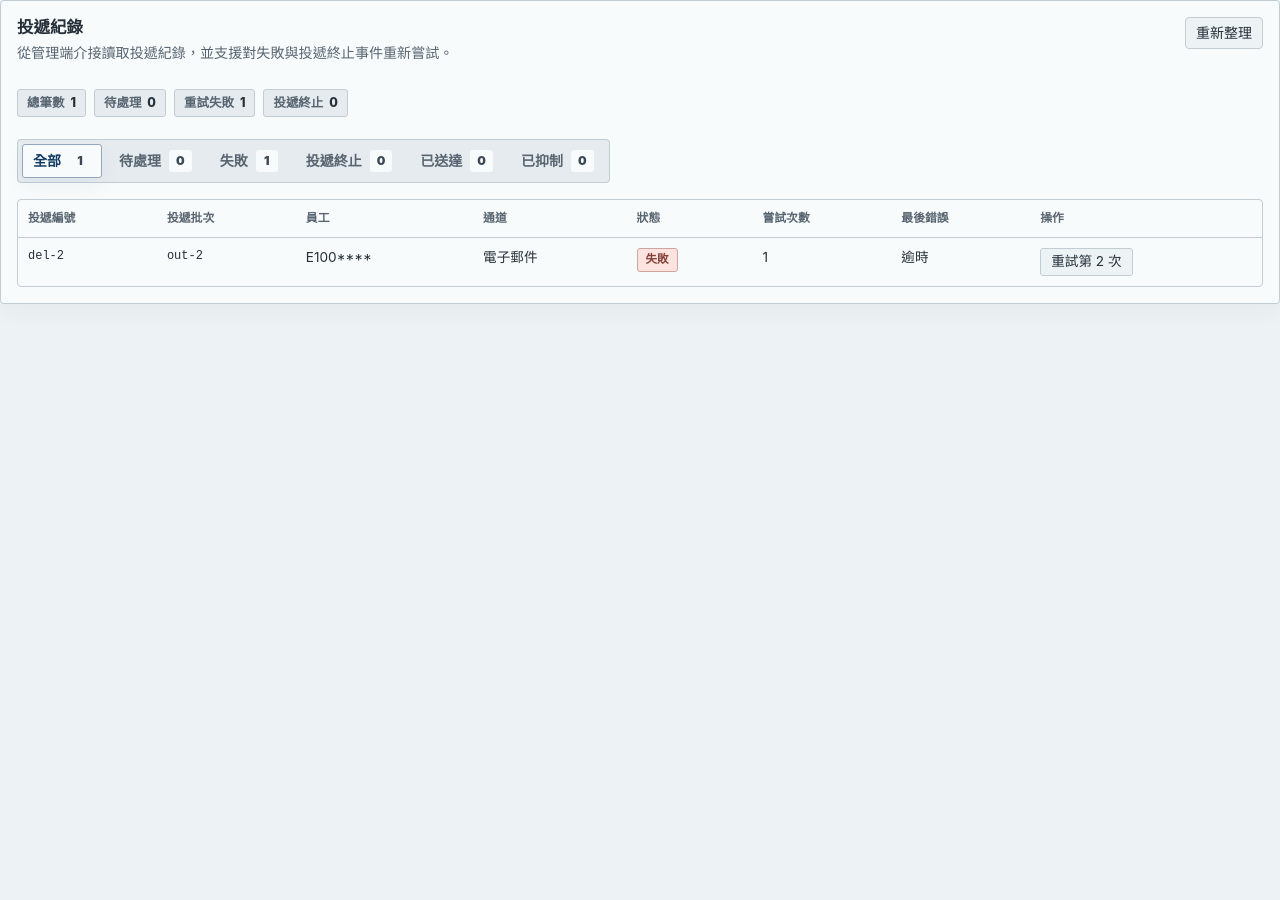
Test: NotificationDeliveryPage › retries a failed delivery and refreshes the row
Click the button "重試第 2 次": (1086, 262) top-left (1040, 248), bottom-right (1133, 276)
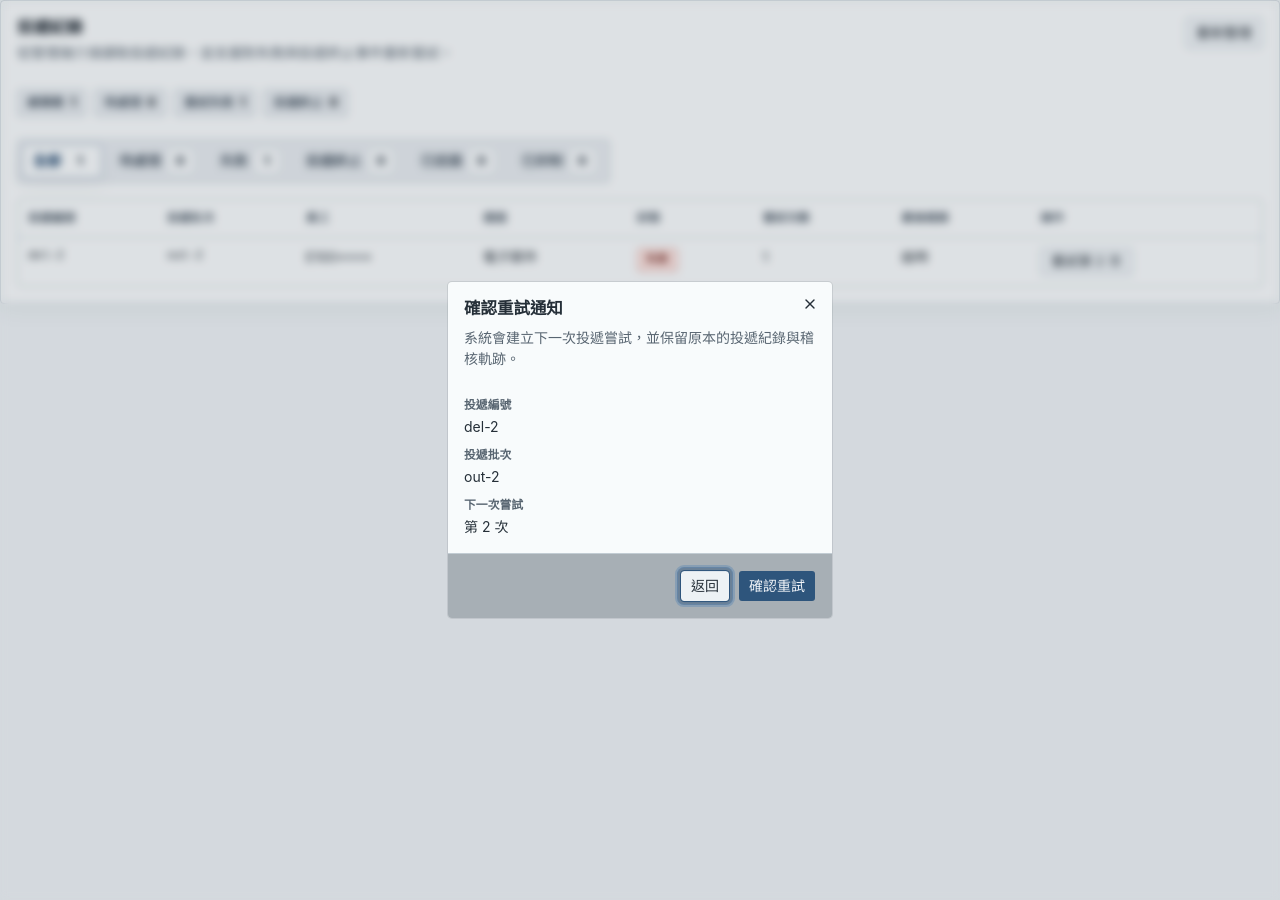
Click the button "確認重試": (777, 586) top-left (738, 570), bottom-right (816, 602)
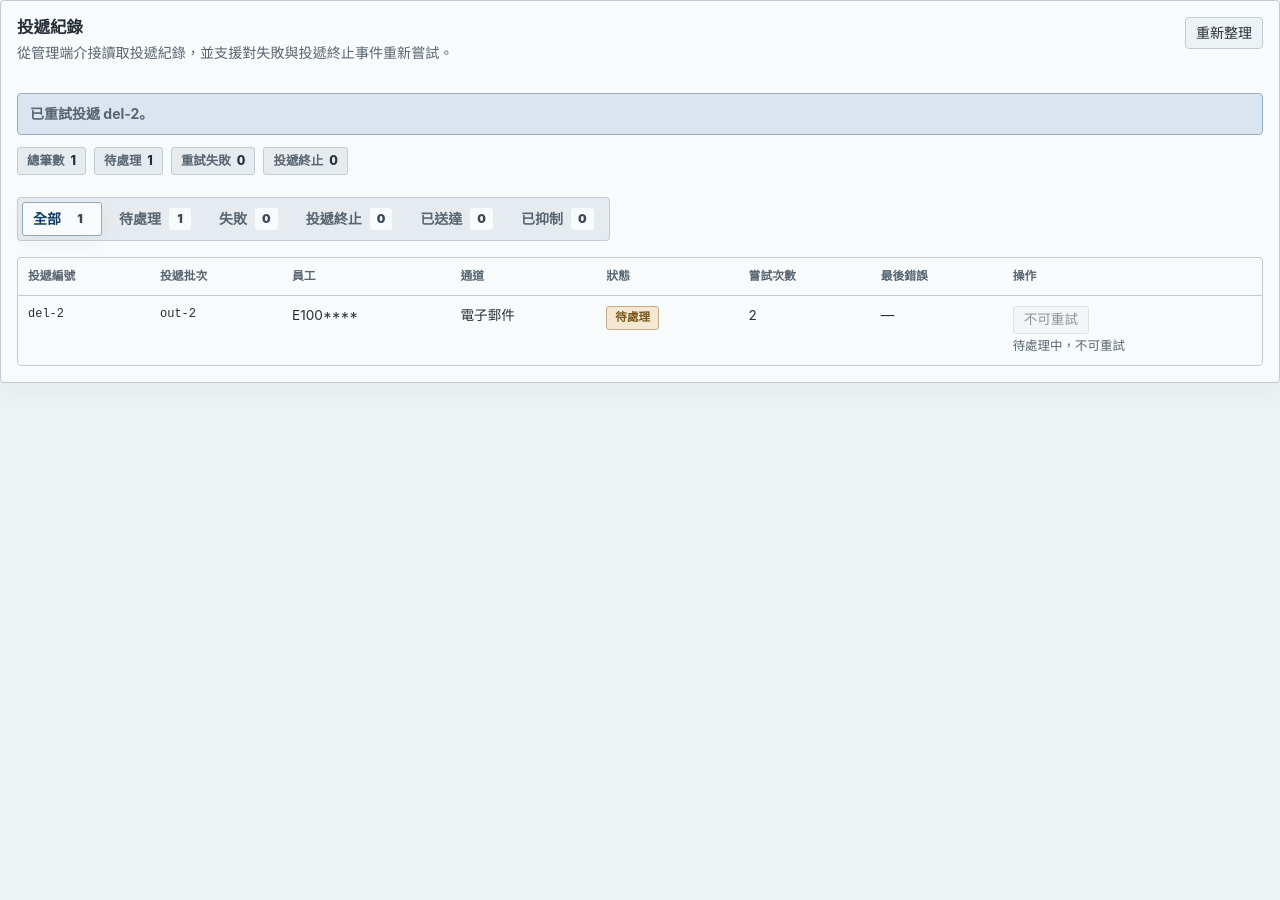
Check: the text "del-2" is shown, box top-left (28, 307), bottom-right (64, 321)
Check: the icon "待處理" is shown, box top-left (606, 306), bottom-right (659, 330)
Check: the text "已重試投遞 del-2。" is shown, box top-left (30, 105), bottom-right (153, 122)
